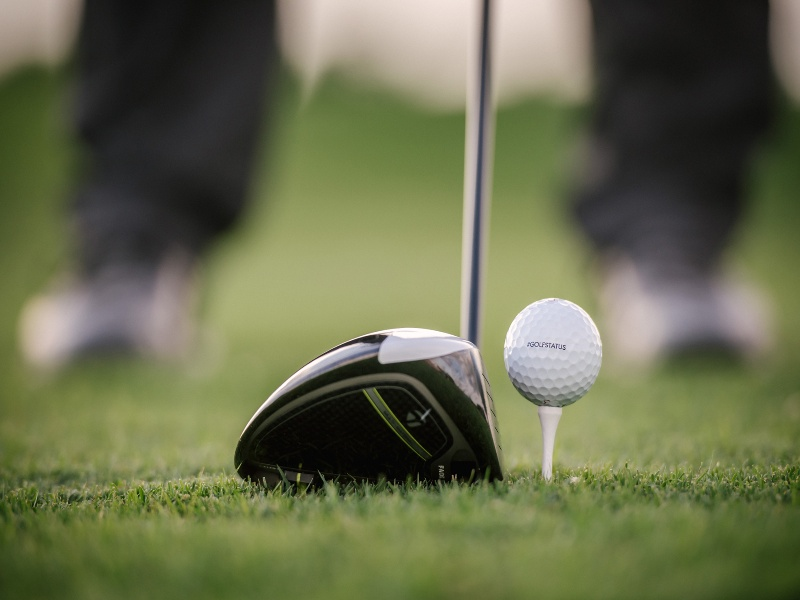golf_ball: (503, 298, 603, 407)
